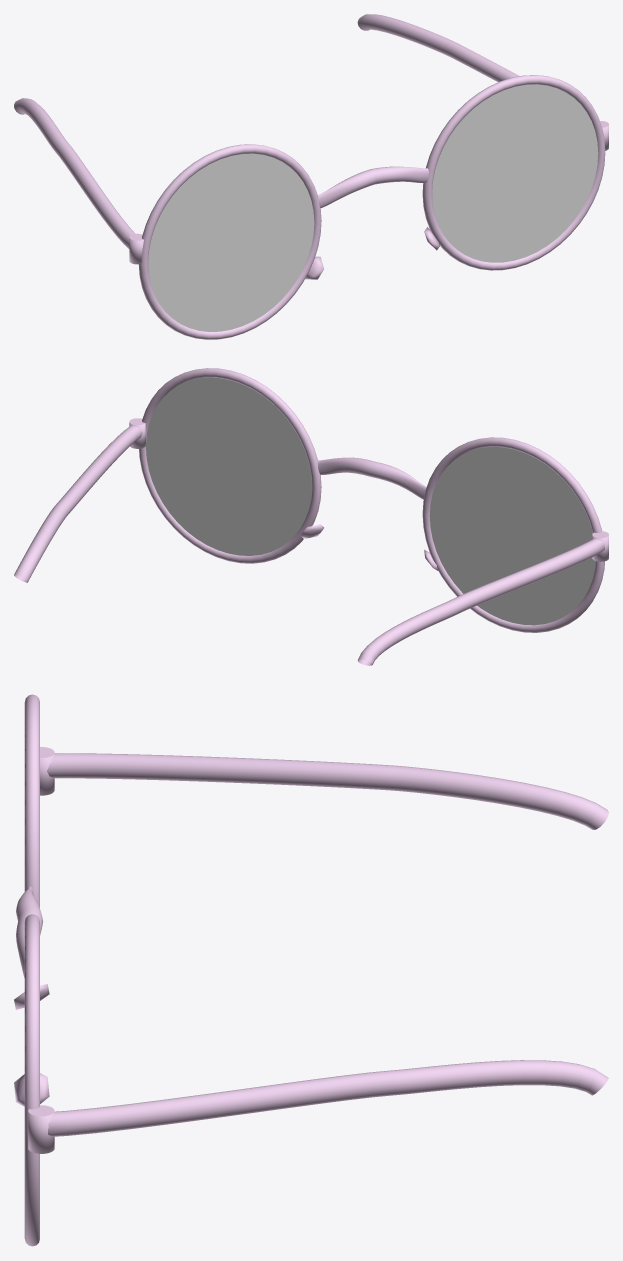
File: NerdSpecs.fbx
3 views of the same model, one above another, from view 1: azimuth 30°, elevation 25°; view 2: azimuth 150°, elevation 25°; view 3: azimuth 270°, elevation 25° (orthographic). The views are drawn at different scales.
Visible parts, largest first — view 1: NerdSpecs; view 2: NerdSpecs; view 3: NerdSpecs.
Boxes of the visible parts, bbox=[...] form: NerdSpecs: bbox=[14, 14, 608, 339]; NerdSpecs: bbox=[14, 368, 608, 665]; NerdSpecs: bbox=[14, 694, 608, 1246].
Size of the model in its own units: 208 by 79.18 by 142.
